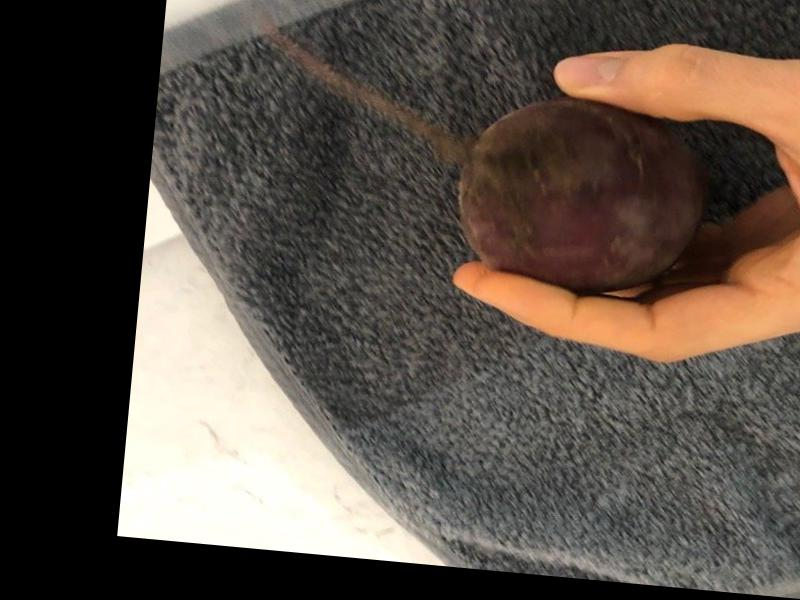Beet: (452, 88, 714, 302)
